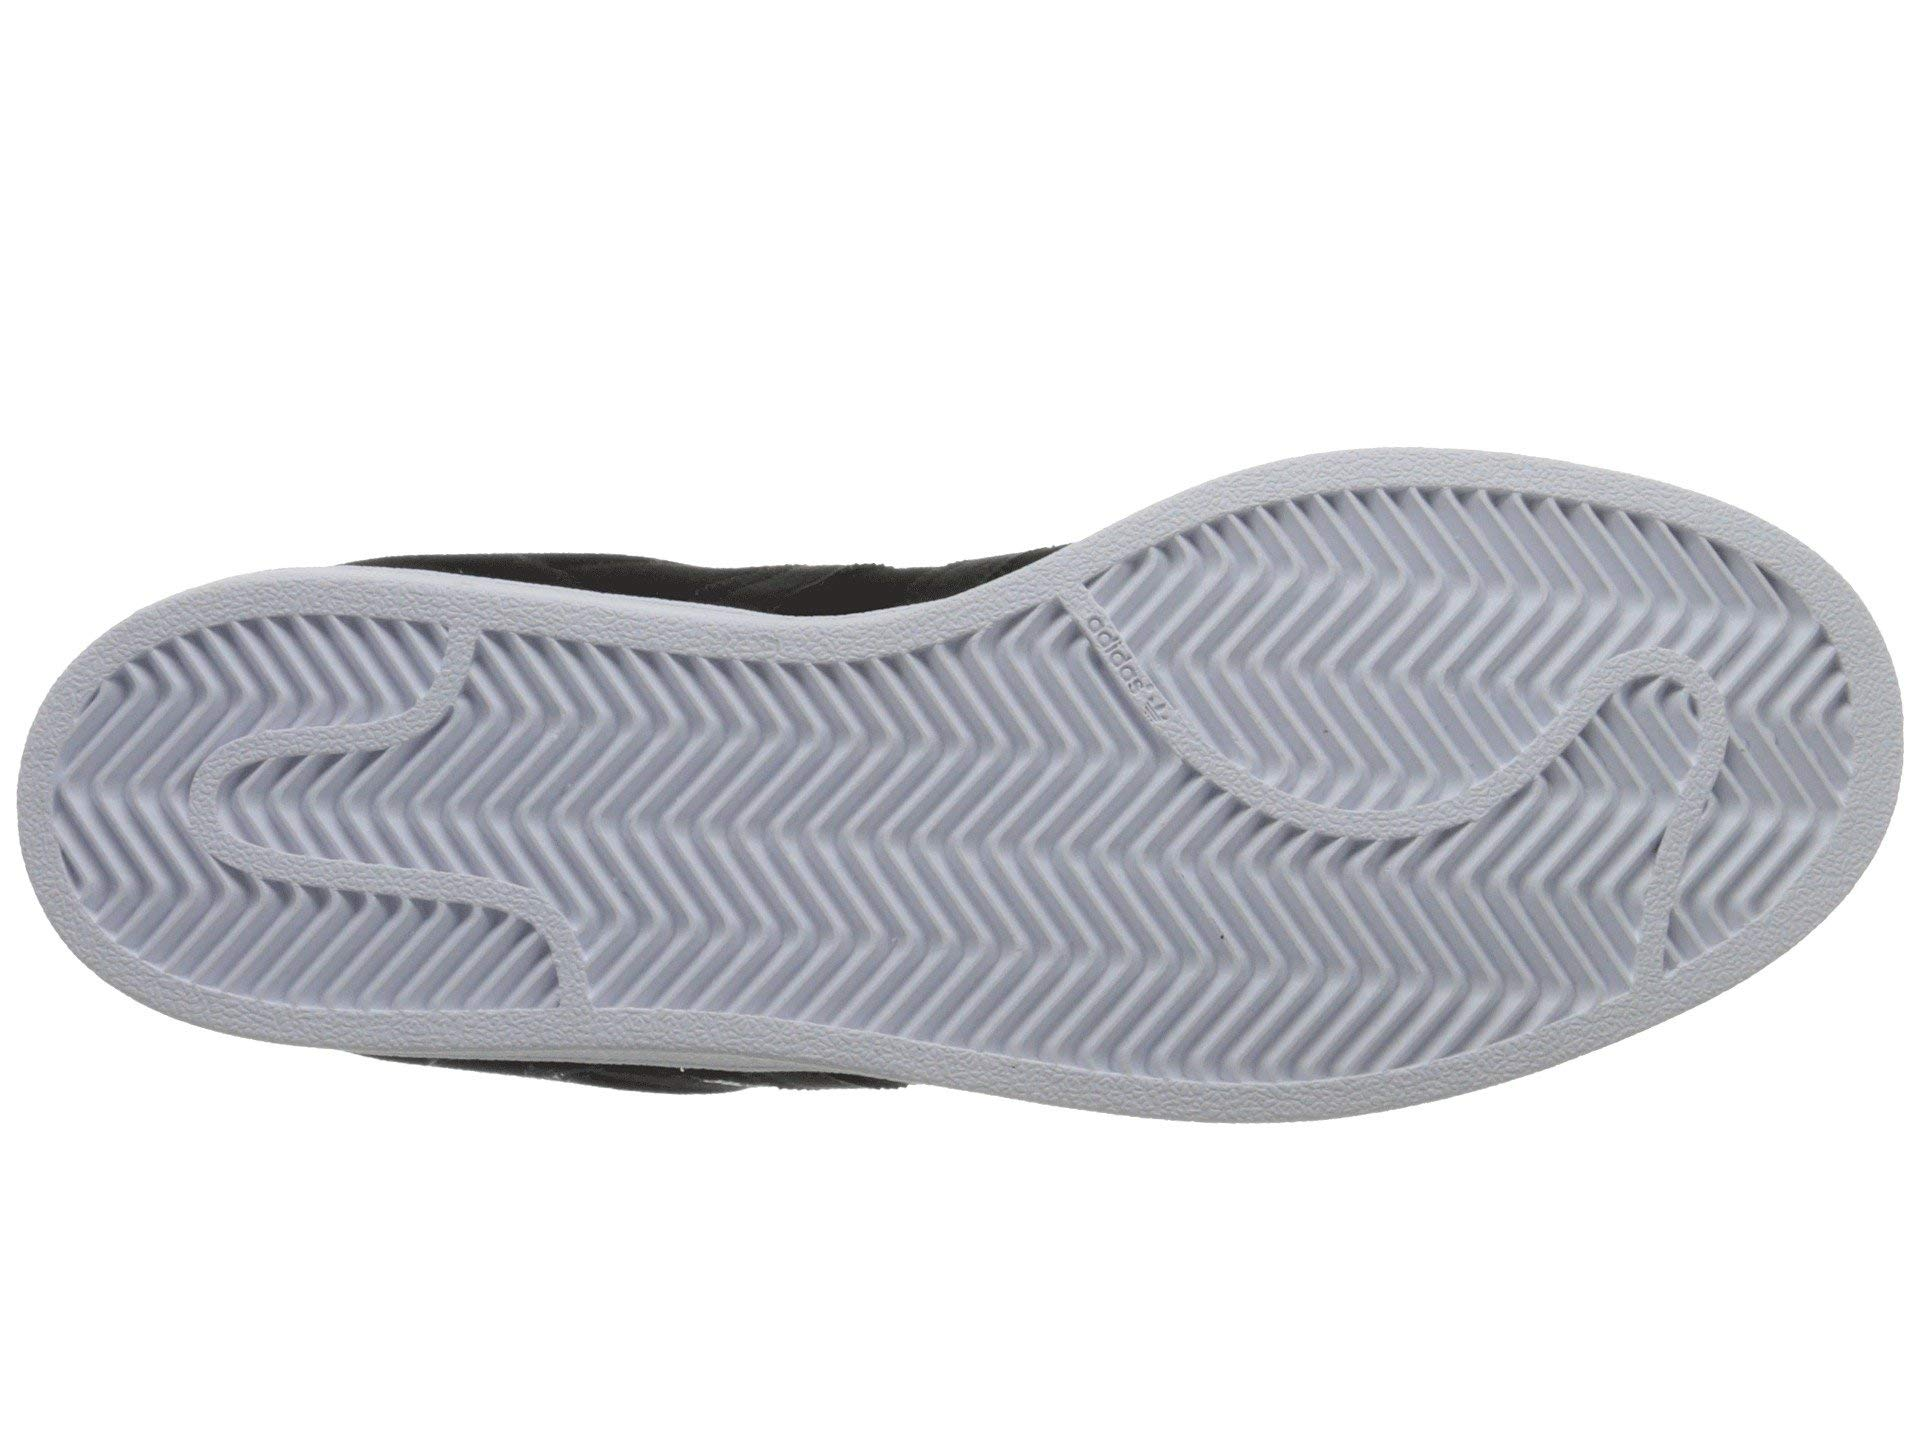chevron: (466, 673, 1184, 1019), (85, 690, 438, 964), (1144, 535, 1560, 762), (1222, 846, 1628, 1006), (1612, 563, 1805, 861)
line: (85, 690, 438, 964), (1612, 563, 1805, 861)
